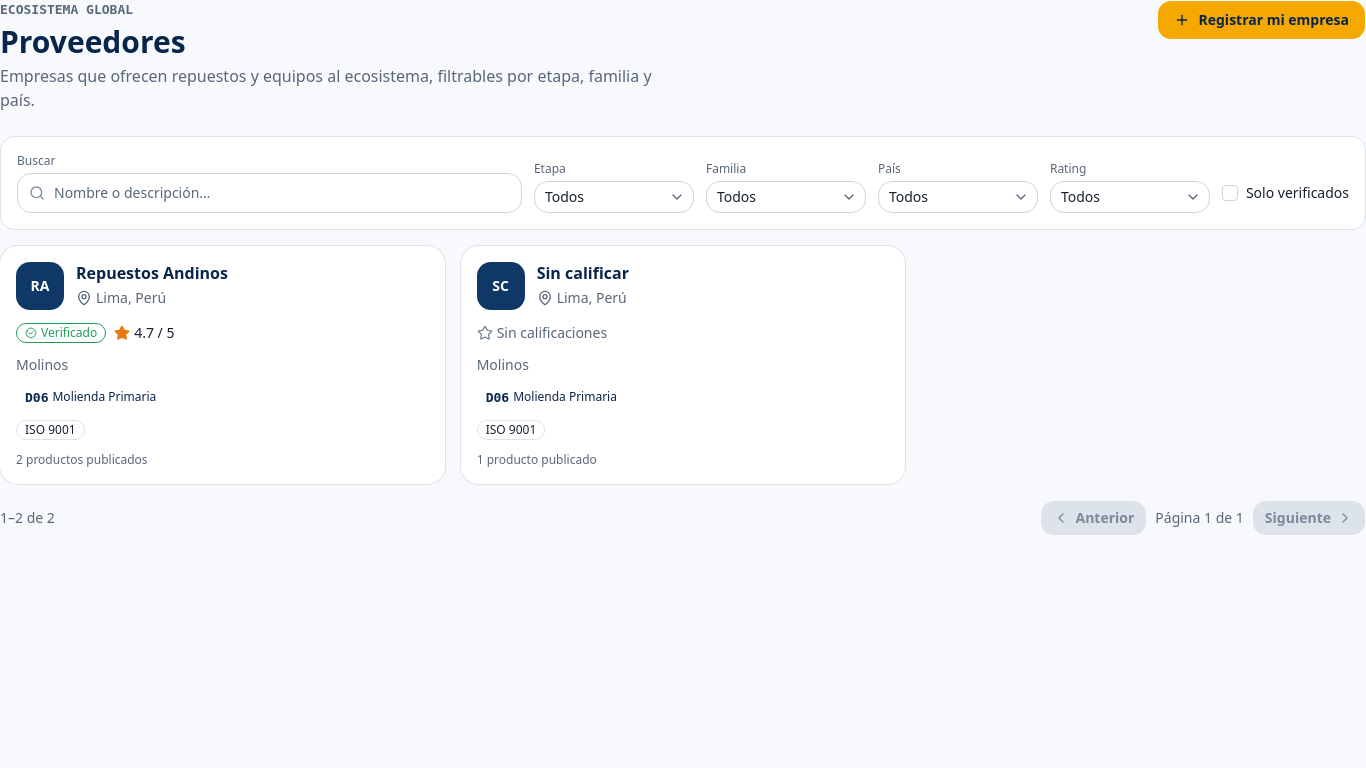
Test: Proveedores › errores del servidor por campo (web inválida) aparecen bajo el campo
The image size is (1366, 768).
Click the button "Registrar mi empresa" at (1262, 20), box [1158,0,1365,40]
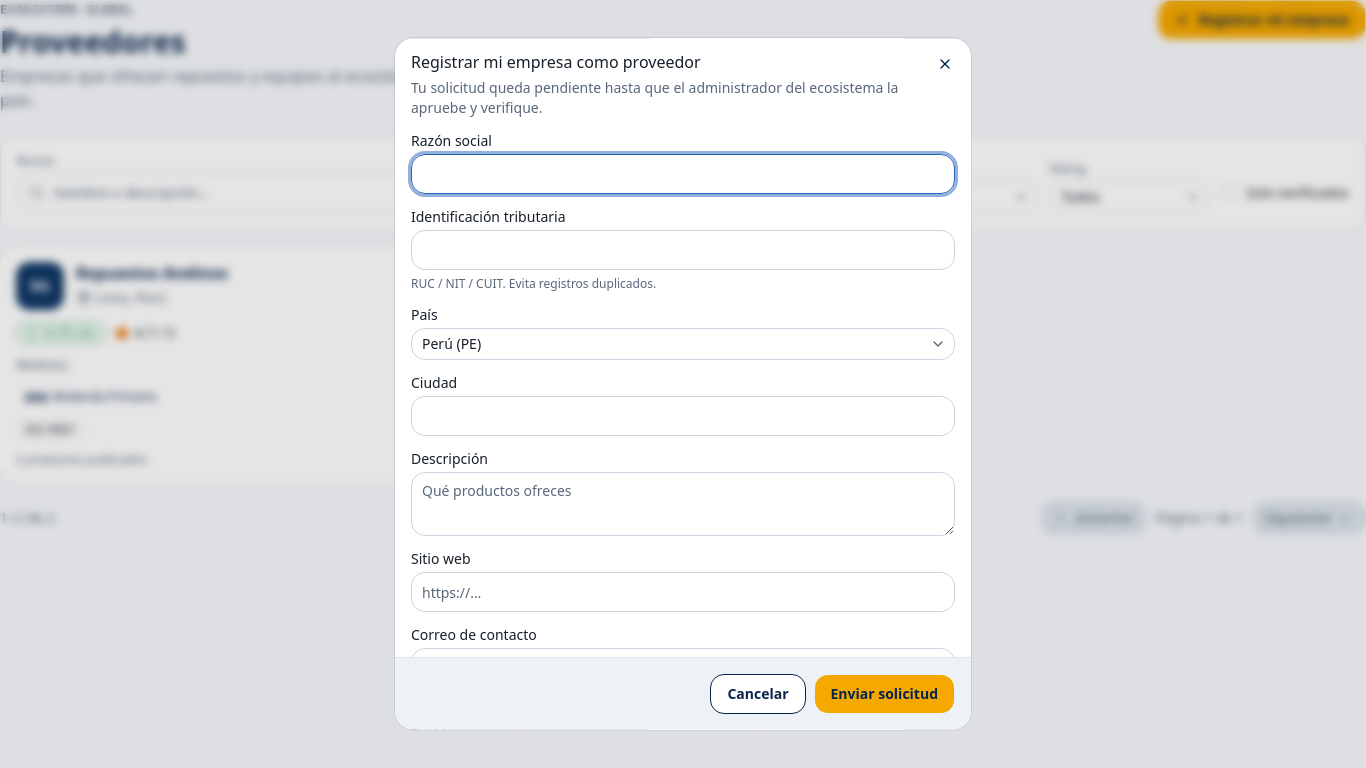
Type "X Corp" into the field labelled "Razón social" at (683, 174), box [411,154,955,194]
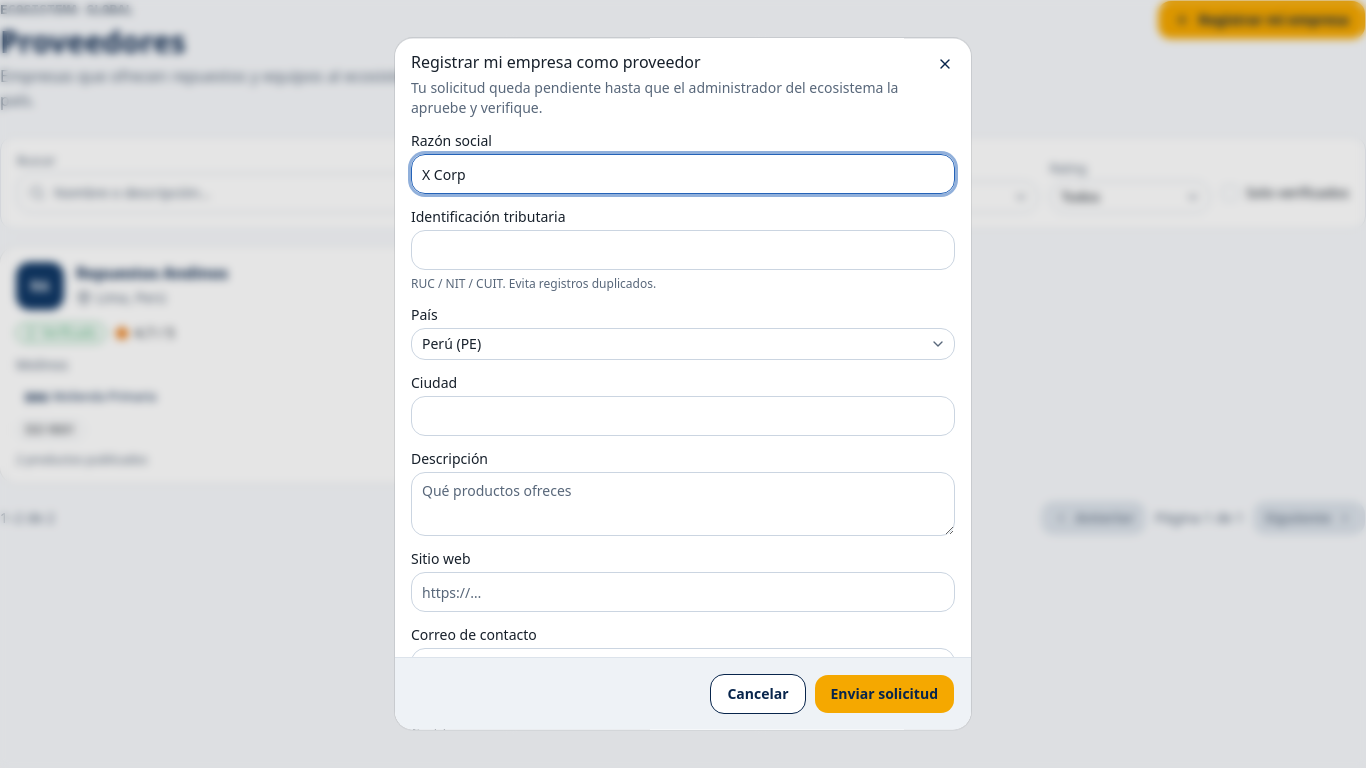
Type "javascript:alert(1)" into the field labelled "Sitio web" at (683, 592), box [411,572,955,612]
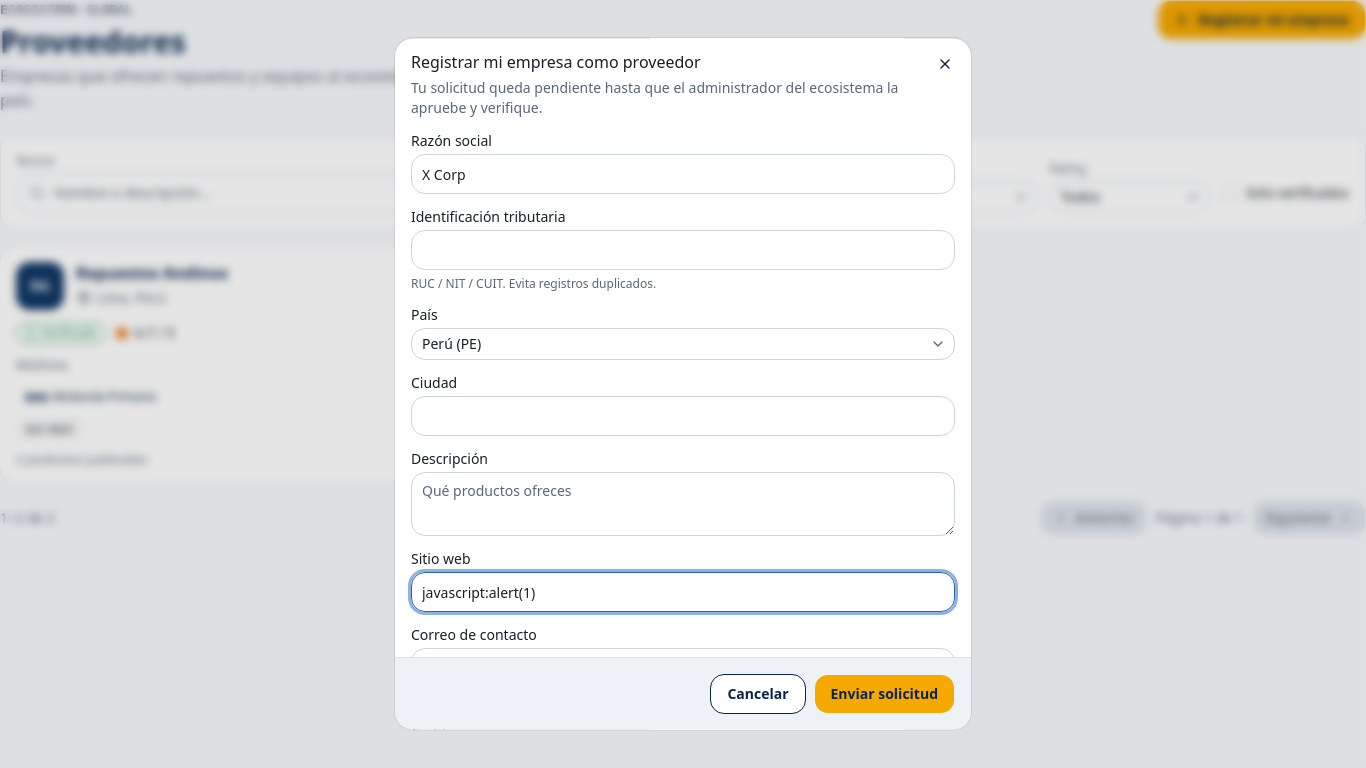
Click the button "Enviar solicitud" at (884, 694), box [814,674,955,714]
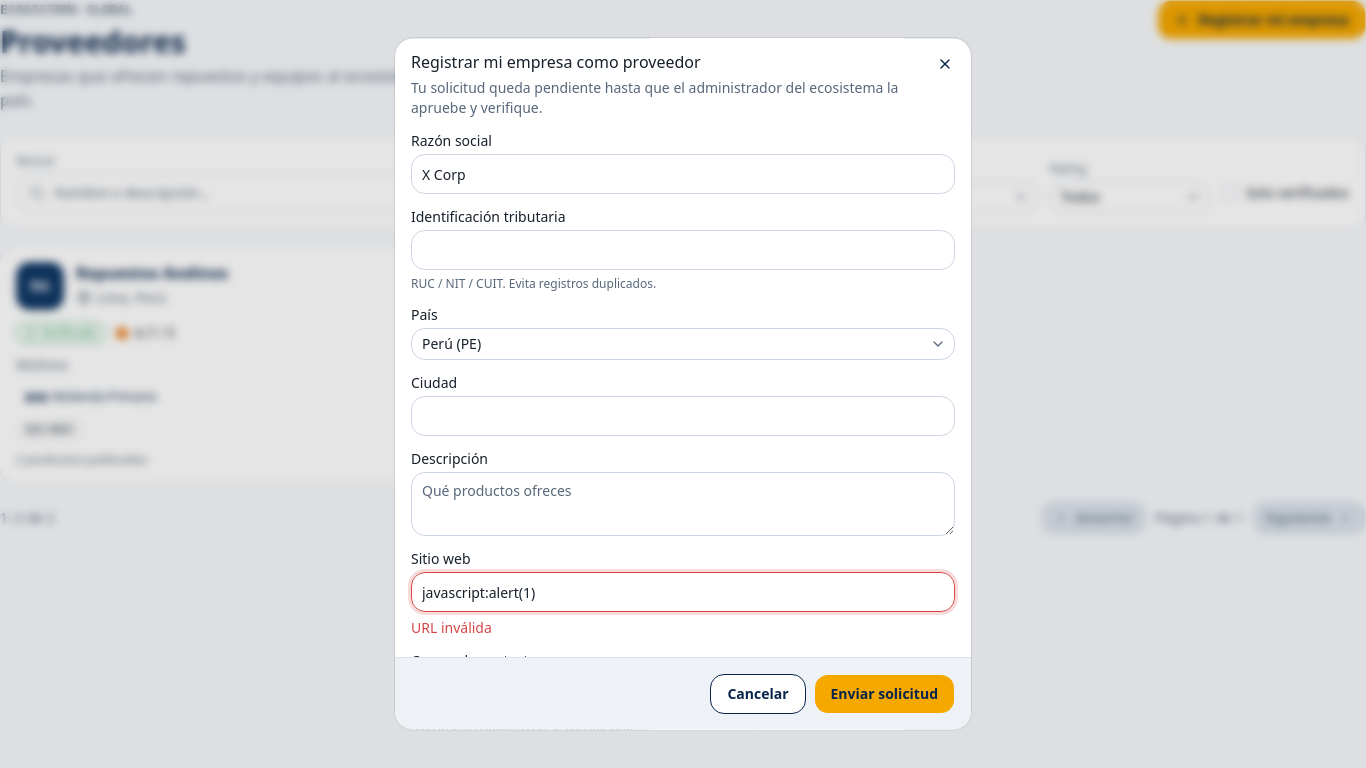
Now the text "URL inválida" is shown, box [411,618,492,637]
